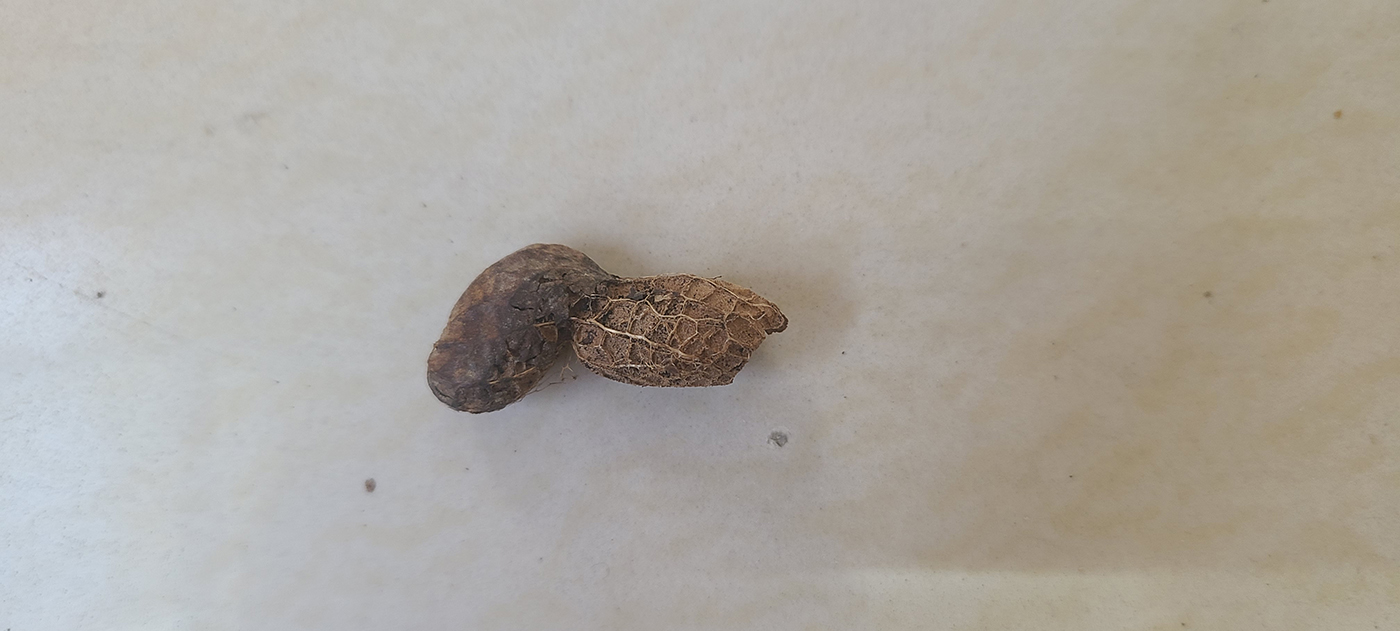l: (424, 244, 786, 415)
